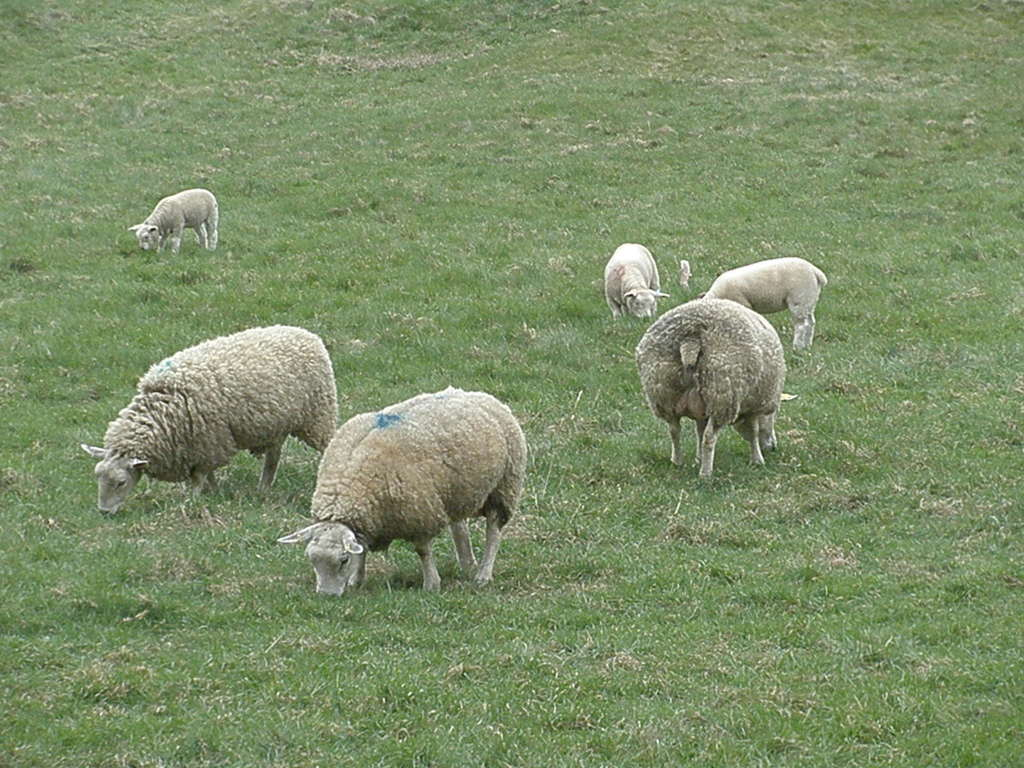sheep: (277, 380, 524, 599), (634, 298, 784, 478), (130, 190, 217, 256), (602, 240, 673, 320)
